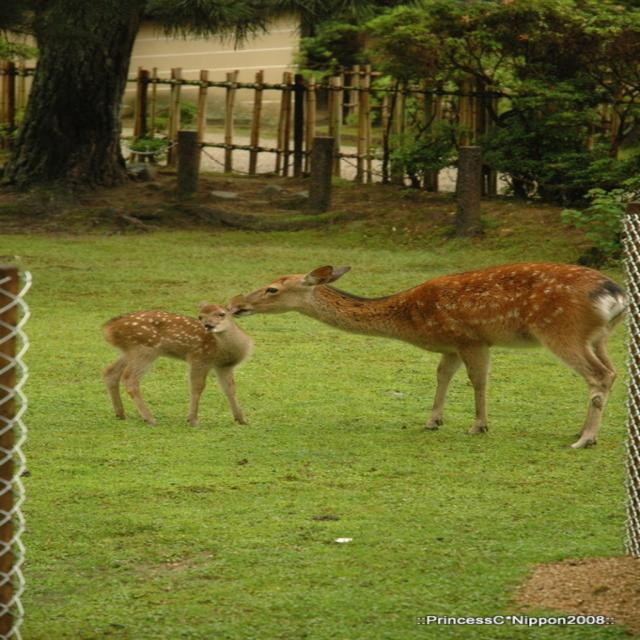Deer: (231, 260, 632, 450), (101, 300, 252, 427)
